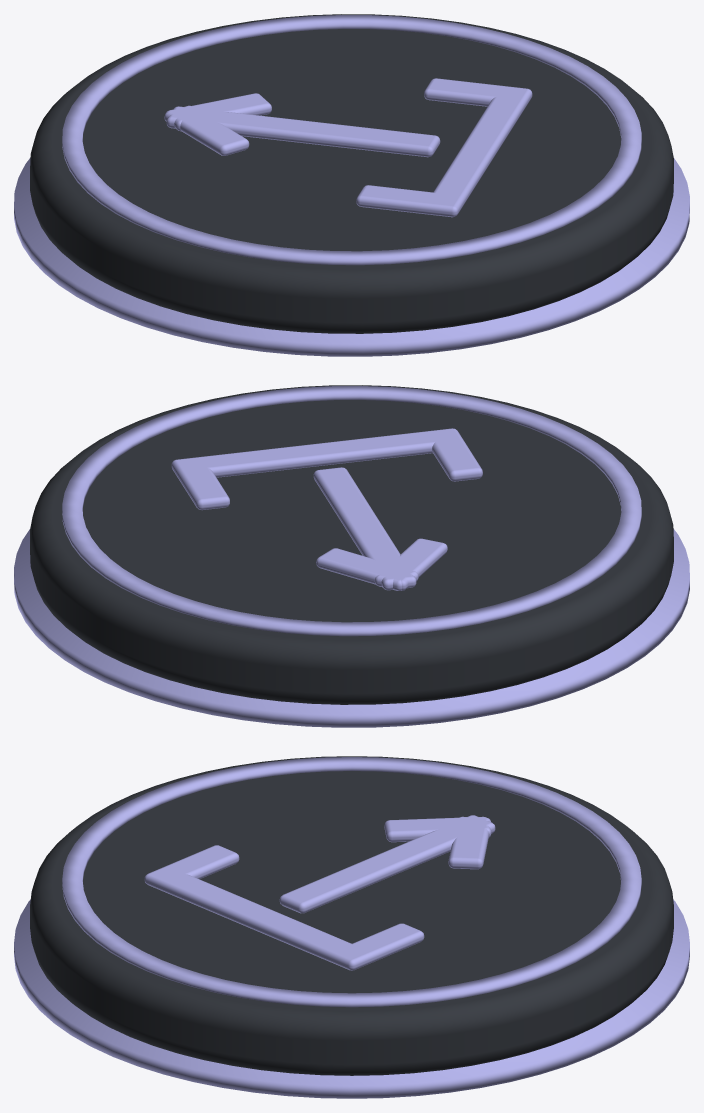
3 renders of one model, top to bottom at view 1: azimuth 30°, elevation 25°; view 2: azimuth 150°, elevation 25°; view 3: azimuth 270°, elevation 25°, orthographic.
Visible parts, largest first — view 1: module, edge, rim, line.003, line, line.001, line.002, line.004, line.005; view 2: module, edge, rim, line, line.003, line.002, line.005, line.001, line.004; view 3: module, edge, rim, line, line.003, line.002, line.004, line.005, line.001.
Boxes of the visible parts, box(x1,y1,x2,y2) form: module: box(30, 14, 673, 333); edge: box(62, 15, 641, 265); rim: box(14, 158, 689, 356); line.003: box(166, 106, 440, 157); line: box(428, 86, 532, 217); line.001: box(356, 185, 464, 216); line.002: box(424, 78, 531, 107); line.004: box(164, 105, 249, 155); line.005: box(166, 93, 271, 131); module: box(30, 385, 673, 704); edge: box(62, 386, 641, 636); rim: box(14, 529, 689, 727); line: box(172, 428, 461, 477); line.003: box(313, 467, 416, 590); line.002: box(171, 459, 229, 510); line.005: box(316, 548, 418, 590); line.001: box(432, 429, 482, 481); line.004: box(374, 538, 447, 590); module: box(30, 756, 673, 1075); edge: box(62, 757, 641, 1007); rim: box(14, 899, 689, 1098); line: box(144, 867, 372, 970); line.003: box(279, 815, 495, 913); line.002: box(332, 923, 424, 969); line.004: box(384, 816, 491, 842); line.005: box(448, 816, 490, 869); line.001: box(146, 845, 239, 891).
Bounding box in the file's own units: 0.672 × 0.09 × 0.672.
